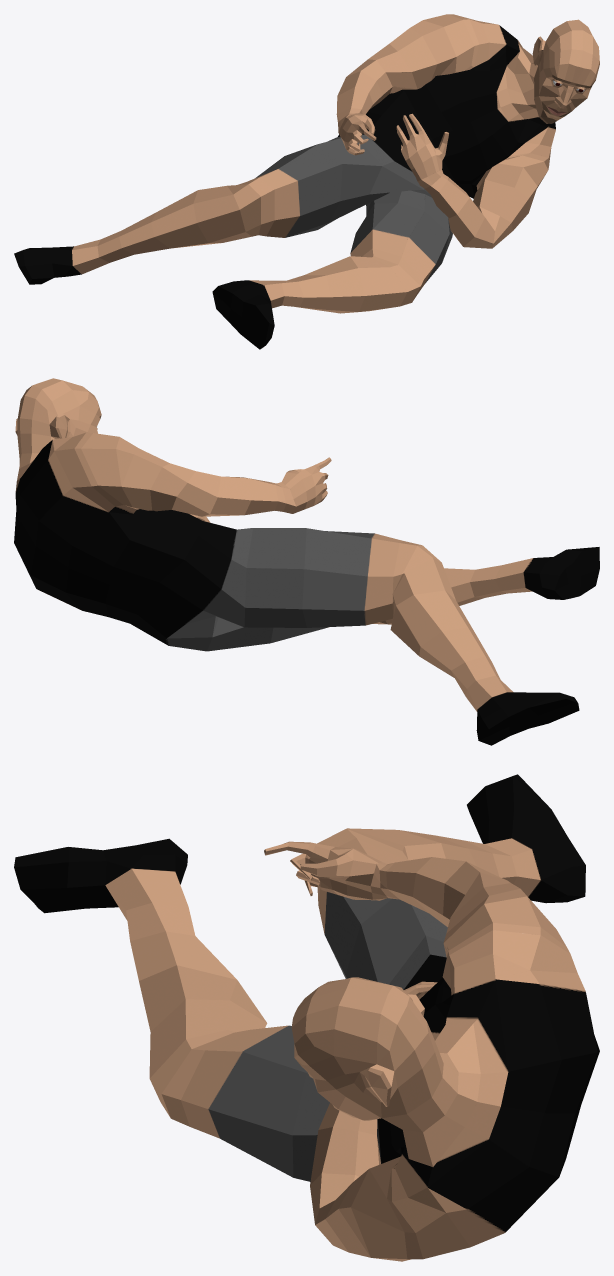
Rendered from PlayerDead(46).obj.
3 views of the same model, one above another, from view 1: azimuth 30°, elevation 25°; view 2: azimuth 150°, elevation 25°; view 3: azimuth 270°, elevation 25° (orthographic). The views are drawn at different scales.
Parts seen in each view (by area): view 1: Plane002; view 2: Plane002; view 3: Plane002.
Part boxes in pixels (x1=…): Plane002: x1=14, y1=14, x2=599, y2=349; Plane002: x1=14, y1=378, x2=599, y2=745; Plane002: x1=14, y1=774, x2=599, y2=1261.
Bounding box in the file's own units: 1650 × 573 × 871.
